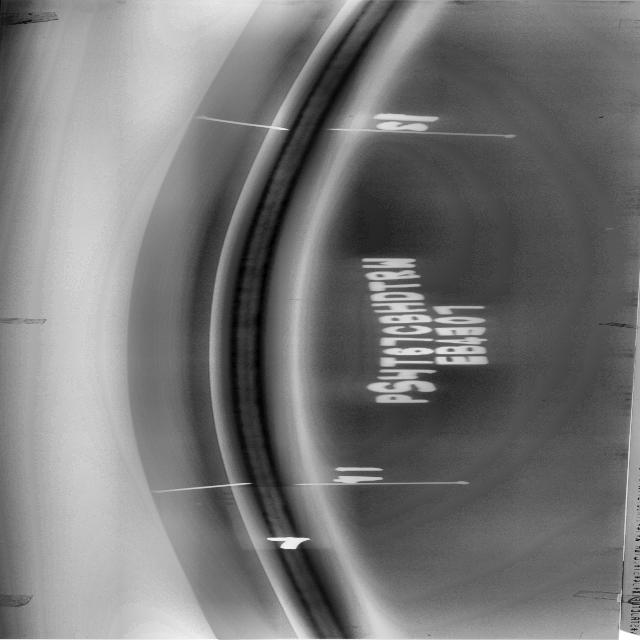porosity: (298, 141, 306, 145), (273, 516, 281, 520), (265, 496, 273, 498), (252, 299, 258, 301)
